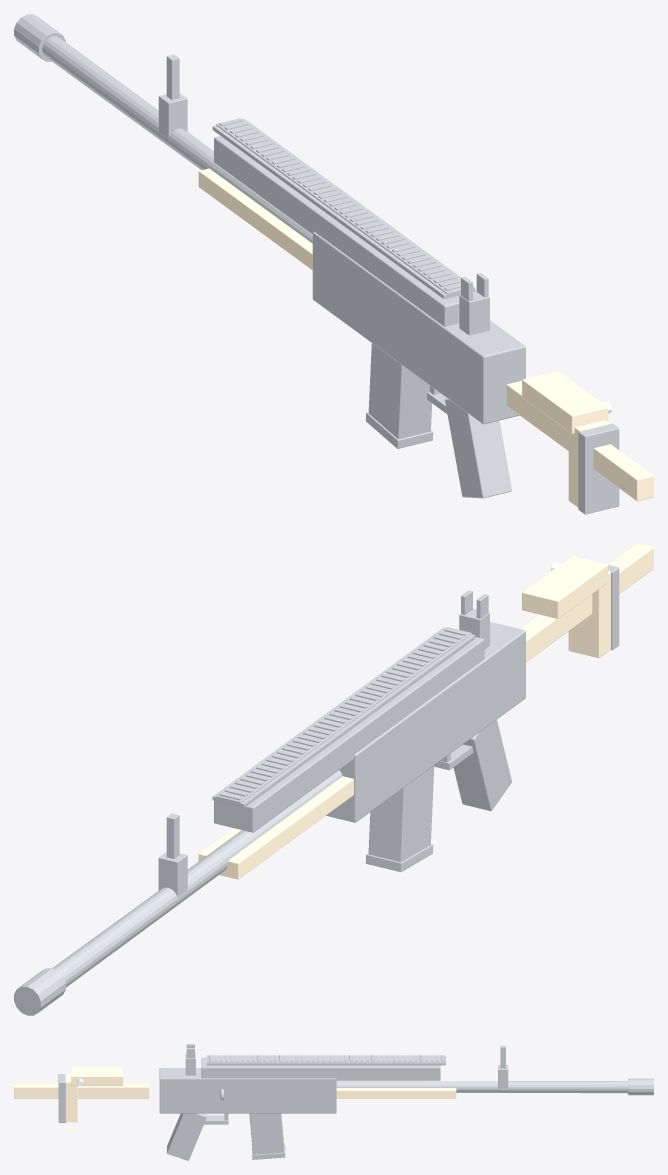
3 views of the same model, one above another, from view 1: azimuth 30°, elevation 25°; view 2: azimuth 150°, elevation 25°; view 3: azimuth 270°, elevation 25° (orthographic). The views are drawn at different scales.
Visible parts, largest first — view 1: Receiver, TopRail, Handguard, Barrel, mag, Grip, StockTop, StockIrons, CheekRest, LowerRail, ButtPad, Muzzle (+1 smaller); view 2: Receiver, TopRail, Handguard, Barrel, mag, LowerRail, Grip, CheekRest, StockTop, StockIrons, StockPlate, Muzzle (+1 smaller); view 3: Receiver, Handguard, Barrel, TopRail, StockTop, LowerRail, mag, Grip, CheekRest, StockIrons, StockPlate, Muzzle (+2 smaller).
Boxes of the visible parts, x1,y1,x2,y2 form: Receiver: (312,231,525,424); TopRail: (212,118,475,298); Handguard: (214,136,475,326); Barrel: (42,36,312,243); mag: (365,343,433,448); Grip: (445,398,511,498); StockTop: (506,380,653,501); StockIrons: (158,54,489,335); CheekRest: (522,371,608,433); LowerRail: (198,168,312,270); ButtPad: (578,423,619,514); Muzzle: (14,14,65,61); Receiver: (326,622,525,822); TopRail: (212,627,475,807); Handguard: (214,637,484,832); Barrel: (18,770,342,1011); mag: (365,765,434,871); LowerRail: (198,776,353,879); Grip: (453,719,511,811); CheekRest: (522,556,608,618); StockTop: (520,543,653,661); StockIrons: (158,590,489,897); StockPlate: (568,571,610,657); Muzzle: (14,968,65,1015); Receiver: (159,1068,336,1113); Handguard: (201,1057,440,1080); Barrel: (336,1081,627,1093); TopRail: (206,1055,445,1065); StockTop: (14,1083,149,1098); LowerRail: (336,1080,456,1098); mag: (249,1113,285,1159); Grip: (167,1113,206,1160); CheekRest: (71,1067,123,1085); StockIrons: (185,1044,508,1088); StockPlate: (65,1074,77,1122); Muzzle: (628,1078,653,1095).
Bounding box in the file's own units: 0.0663 × 0.2351 × 1.23.
